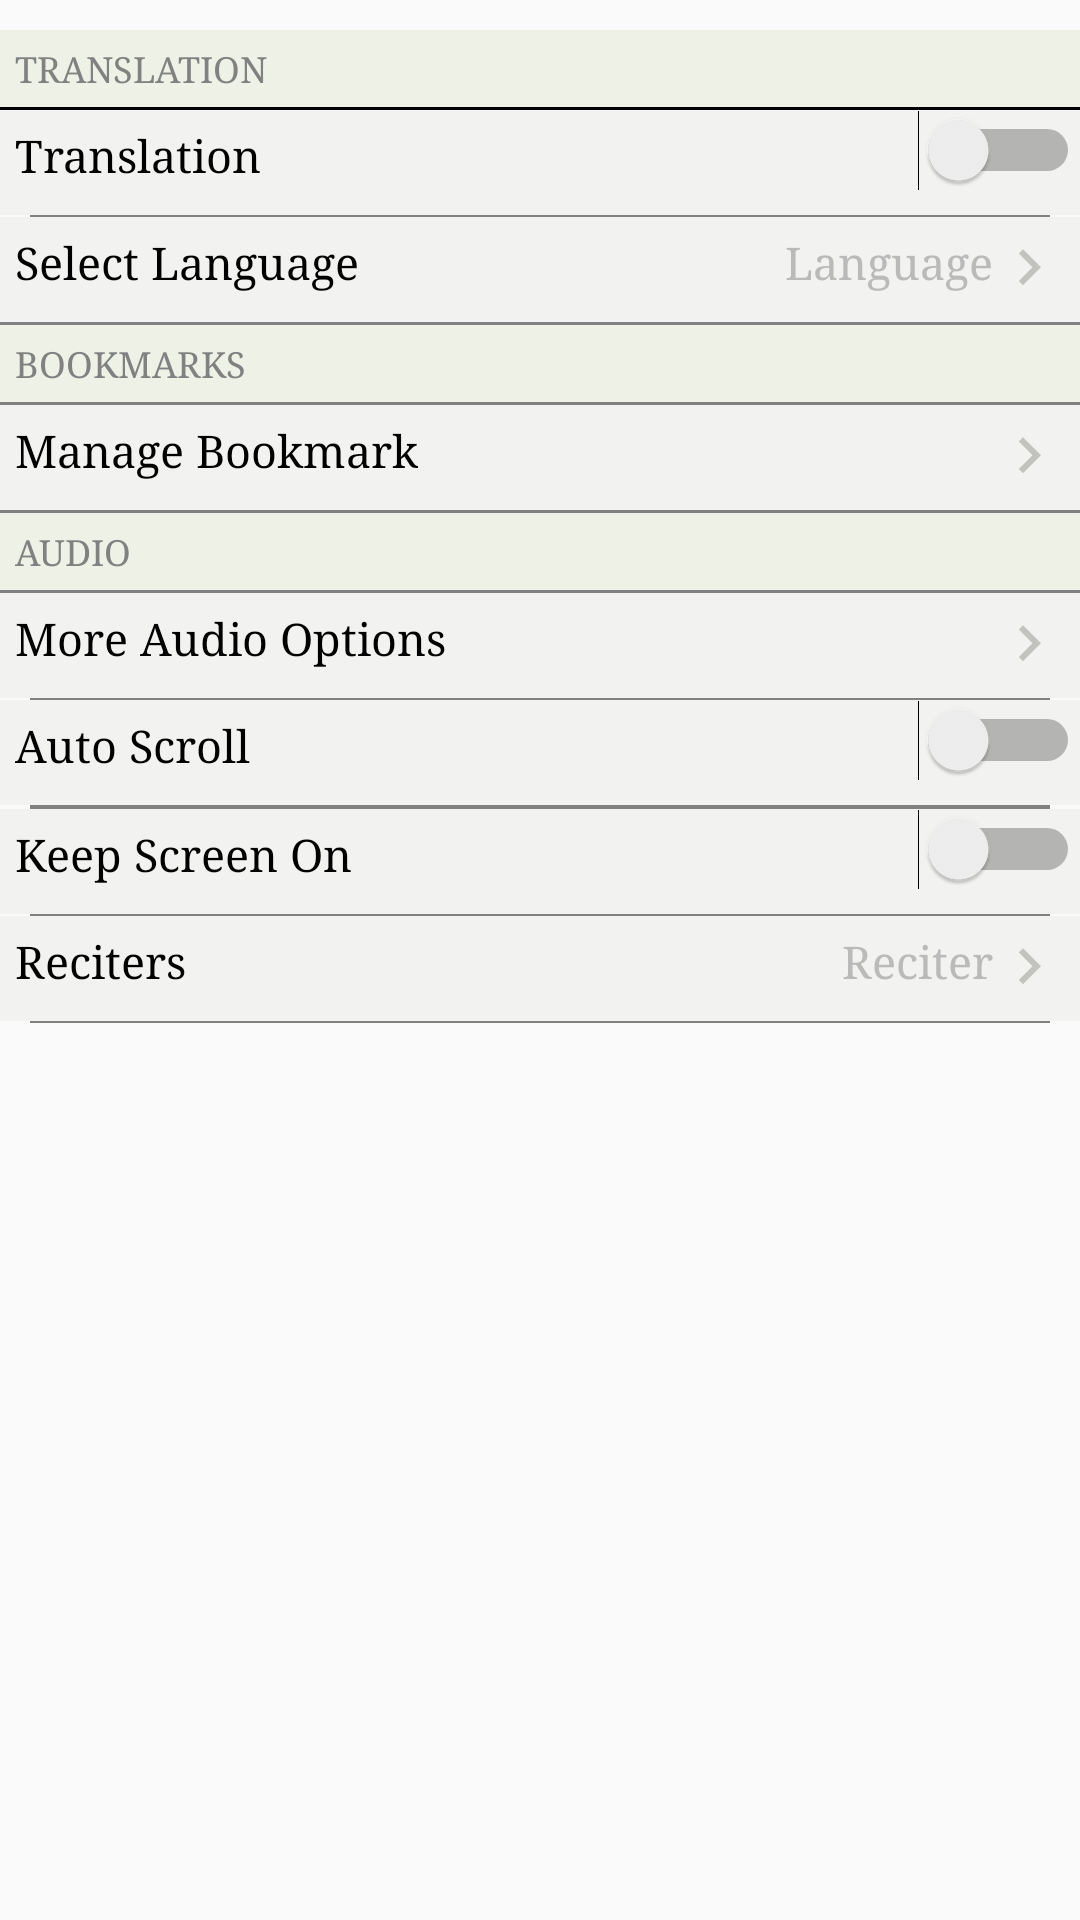

Icon bounding boxes for this 1080w x 1920h phone screenshot, format (x1, y1, x2, y2):
keyboard arrow right: (1019, 438, 1041, 473), (1019, 626, 1041, 661)
